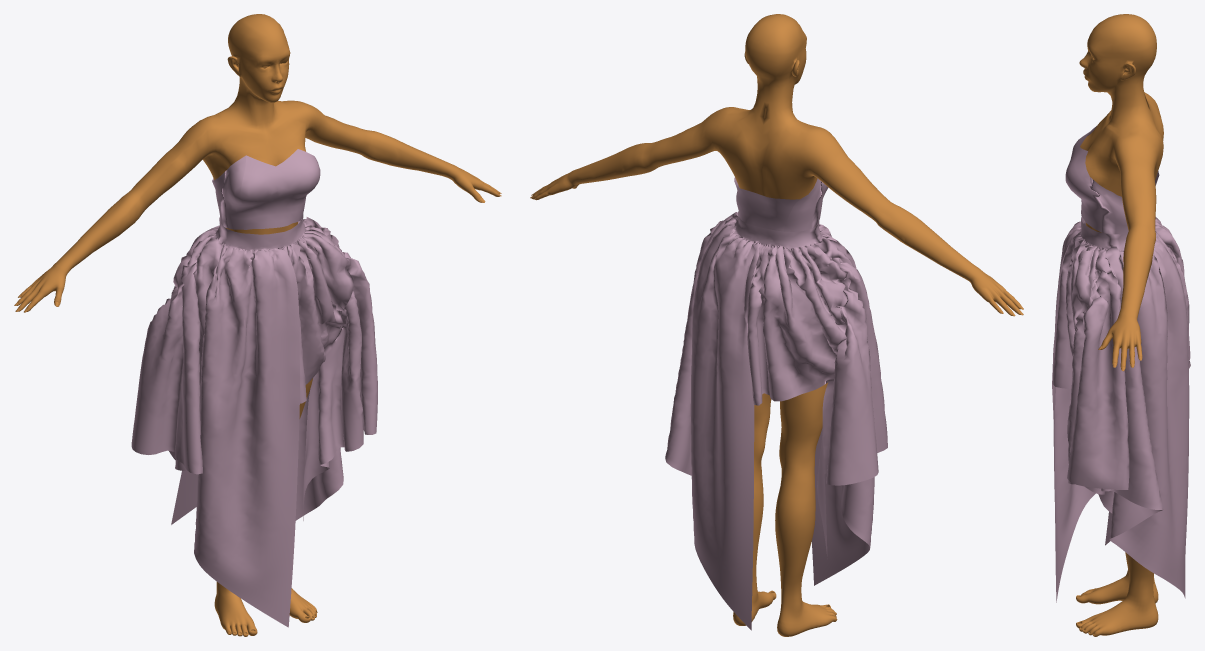
Rendered from dress8.glb.
3 renders of one model, left to right at view 1: azimuth 30°, elevation 25°; view 2: azimuth 150°, elevation 25°; view 3: azimuth 270°, elevation 25°, orthographic.
Parts seen in each view (by area): view 1: Project 1, Body; view 2: Project 1, Body; view 3: Project 1, Body.
Boxes of the visible parts, <box> form: Project 1: <box>131,149,377,627</box>; Body: <box>16,14,500,636</box>; Project 1: <box>665,177,887,630</box>; Body: <box>531,14,1021,636</box>; Project 1: <box>1052,126,1190,602</box>; Body: <box>1076,14,1163,636</box>.
Size of the model in its own units: 1.58 by 1.85 by 0.3878.
